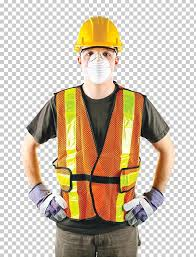helmet: (78, 18, 122, 50)
vest: (55, 94, 138, 218)
